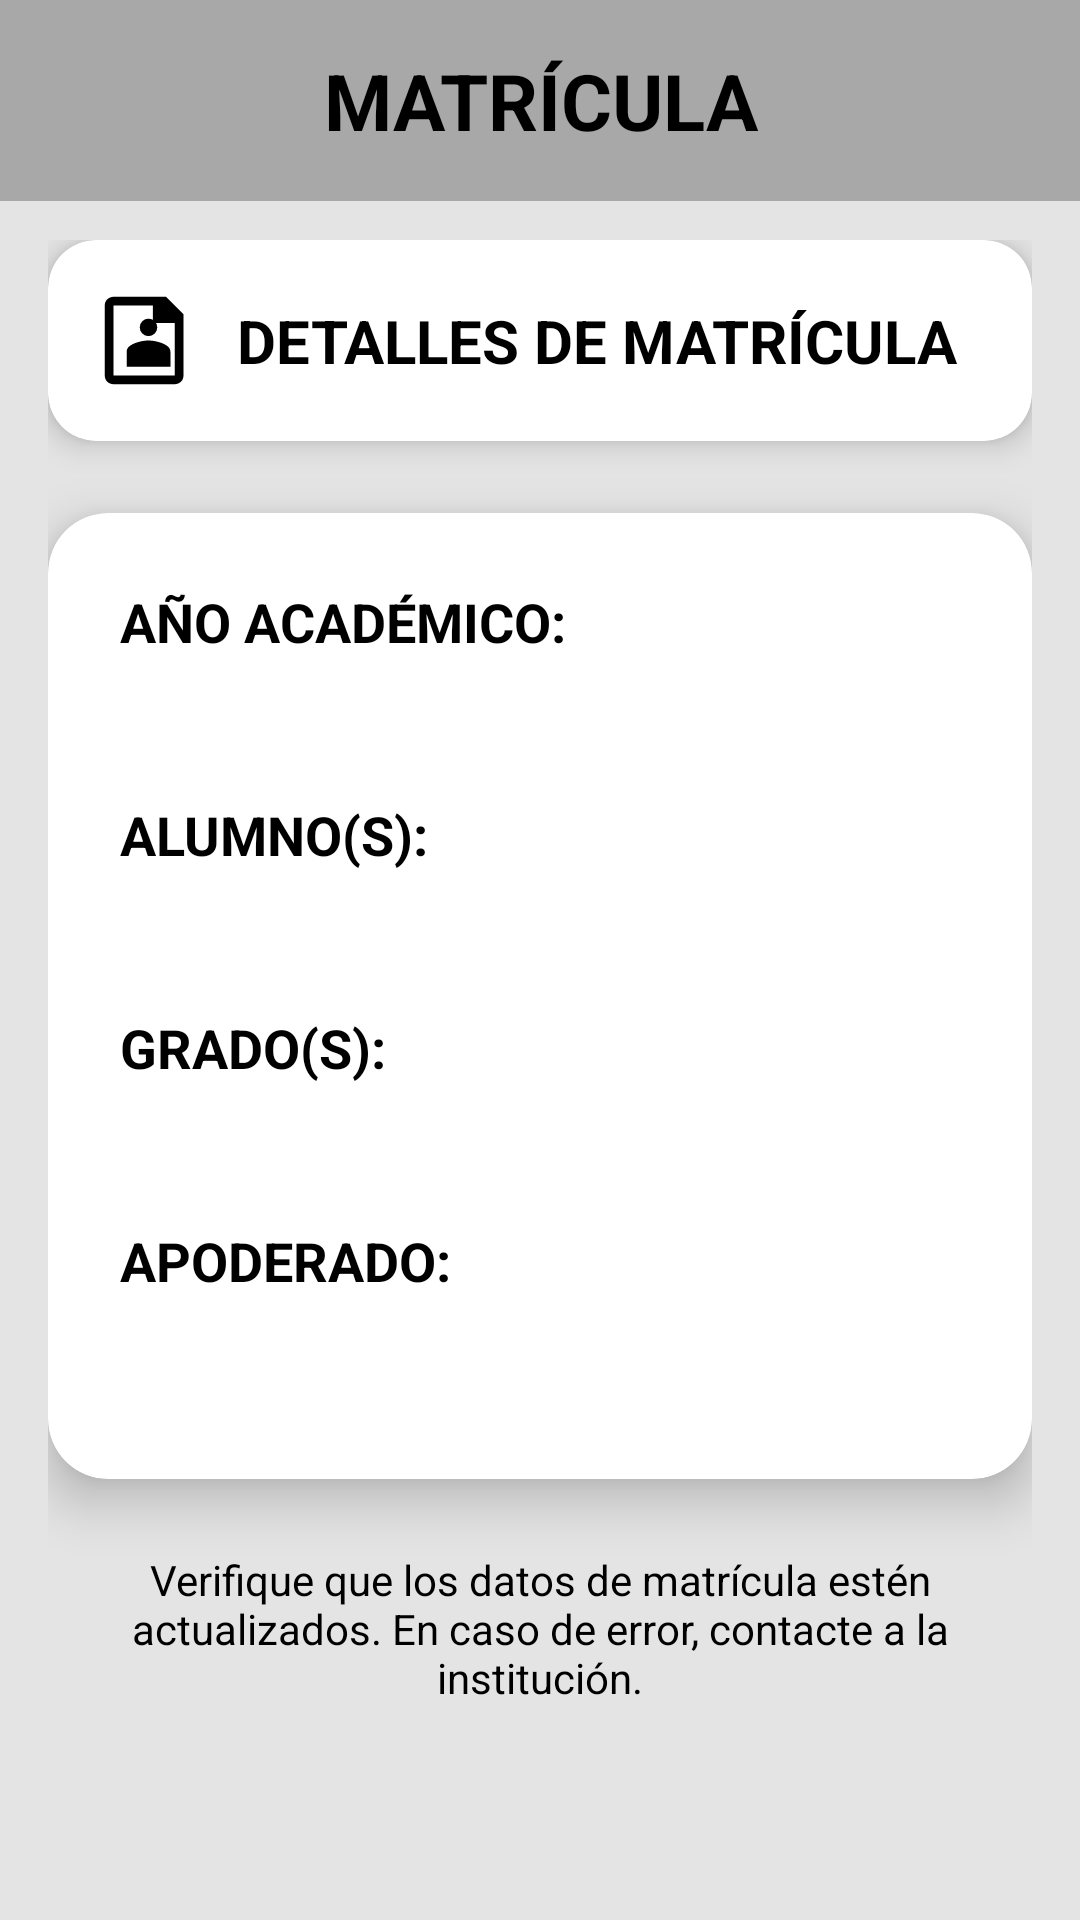

Named icons in this screenshot (1080×1920) and their centers, (x,y):
matricula: (144,340)
